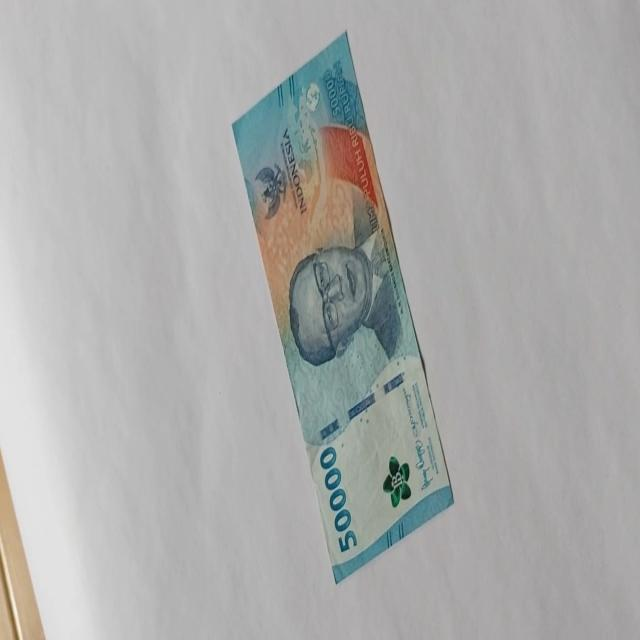lima puluh ribu rupiah: (230, 29, 454, 584)
